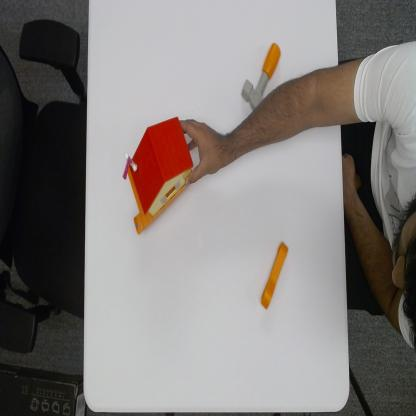Arm: (228, 72, 340, 163)
Hammer: (240, 41, 282, 110)
Hand: (179, 116, 227, 189)
House: (122, 115, 194, 237)
Screwdriver: (259, 238, 290, 312)
